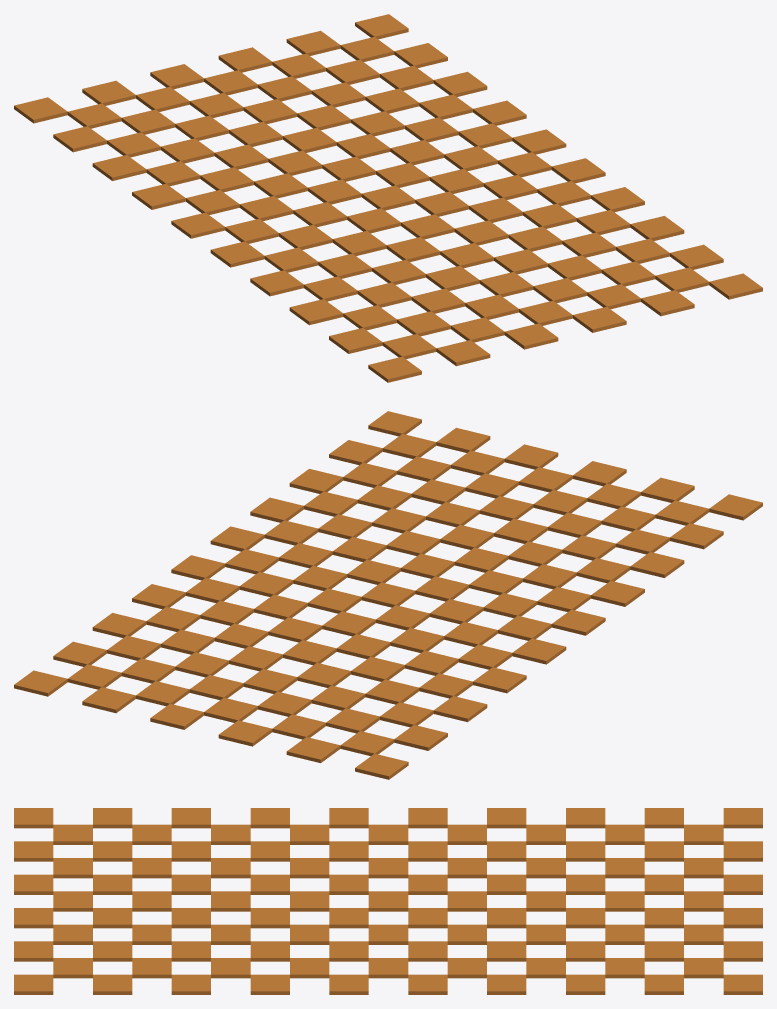
The model's file is sand_tiles_19x11.obj.
3 renders of one model, top to bottom at view 1: azimuth 30°, elevation 25°; view 2: azimuth 150°, elevation 25°; view 3: azimuth 270°, elevation 25°, orthographic.
Visible parts, largest first — view 1: mergedBlocks; view 2: mergedBlocks; view 3: mergedBlocks.
Part boxes in pixels (left/top/right/bottom): mergedBlocks: left=14, top=14, right=762, bottom=382; mergedBlocks: left=14, top=411, right=762, bottom=779; mergedBlocks: left=14, top=808, right=762, bottom=994.
Size of the model in its own units: 11 by 0.1 by 19.
